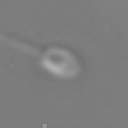normal: (1, 31, 43, 57)
